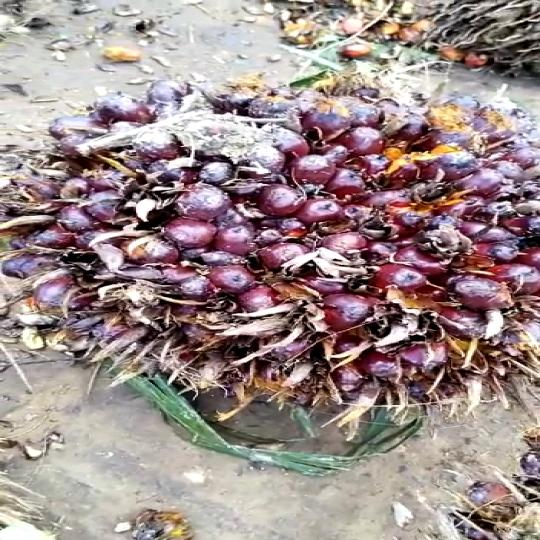masak: (0, 65, 540, 420)
